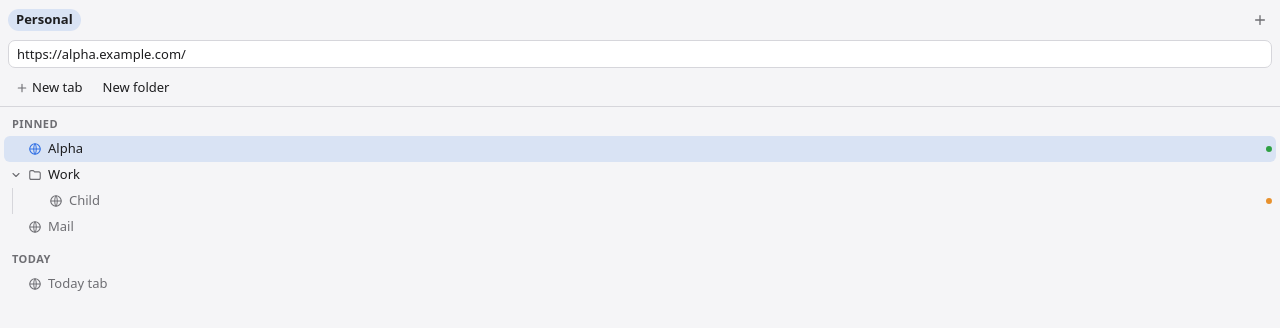
actions send the exact Command › address field rejects javascript: and file: with an inline error and sends nothing
Replace the text in the field named "Address" with "javascript:alert(1)" at coordinates (640, 54), box [8,40,1272,68]
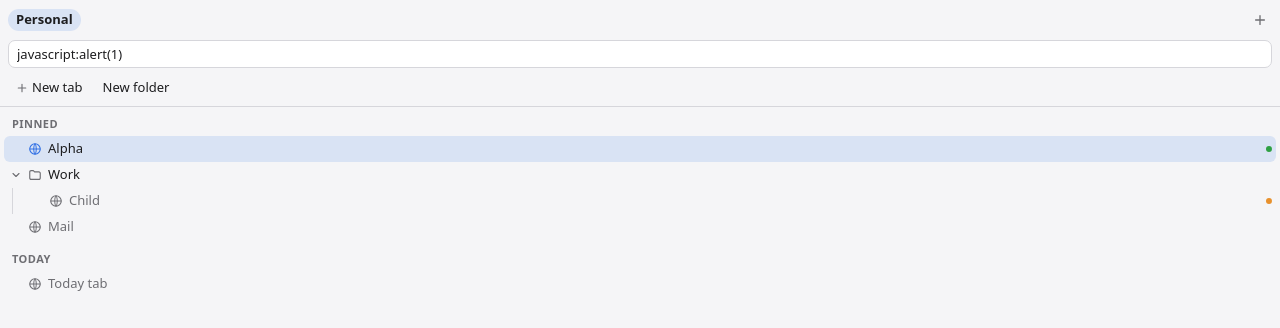
Press Enter in the field named "Address", box [8,40,1272,68]
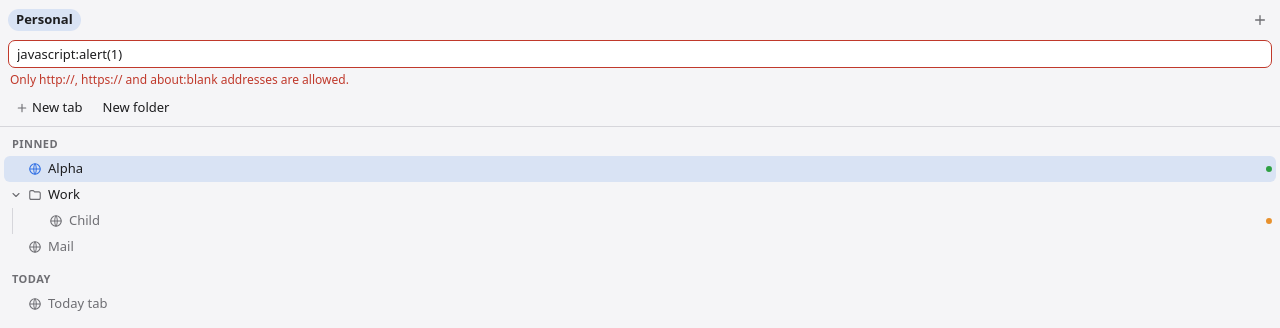
expect the message "Only http://, https:// and about:blank addresses are allowed." is shown: met, box [10,71,349,88]
Replace the text in the field named "Address" with "file:///etc/passwd" at coordinates (640, 54), box [8,40,1272,68]
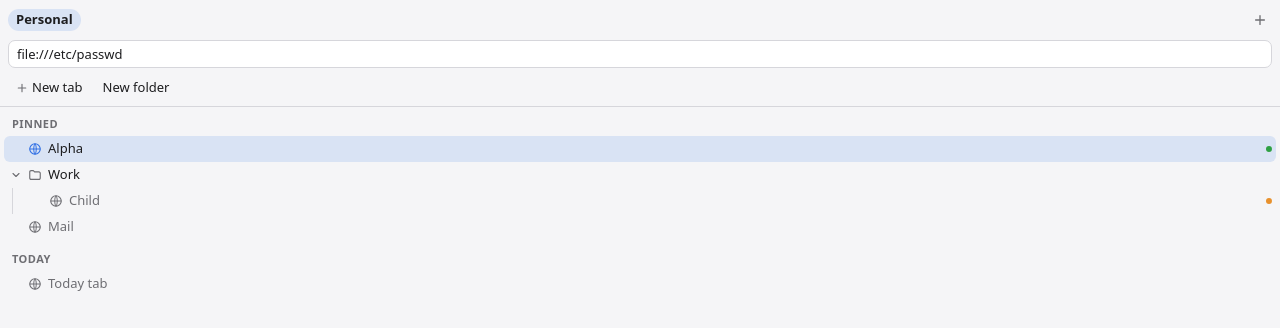
Press Enter in the field named "Address", box [8,40,1272,68]
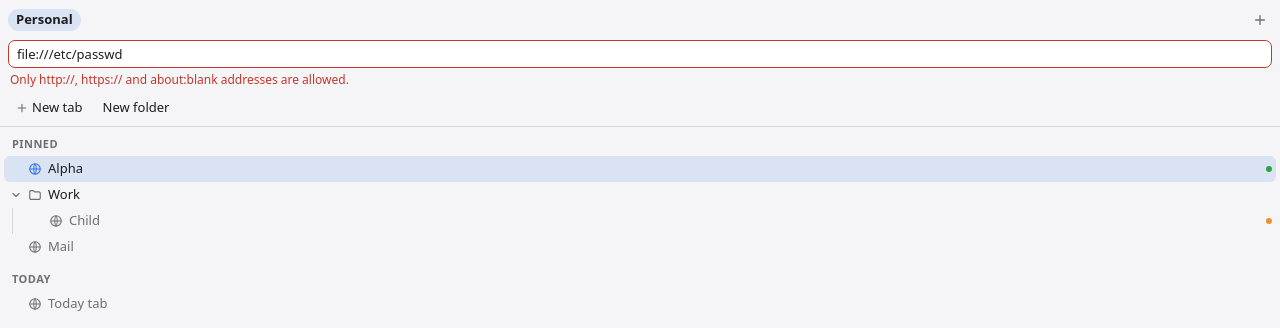
expect the message "Only http://, https:// and about:blank addresses are allowed." is shown: met, box [10,71,349,88]
